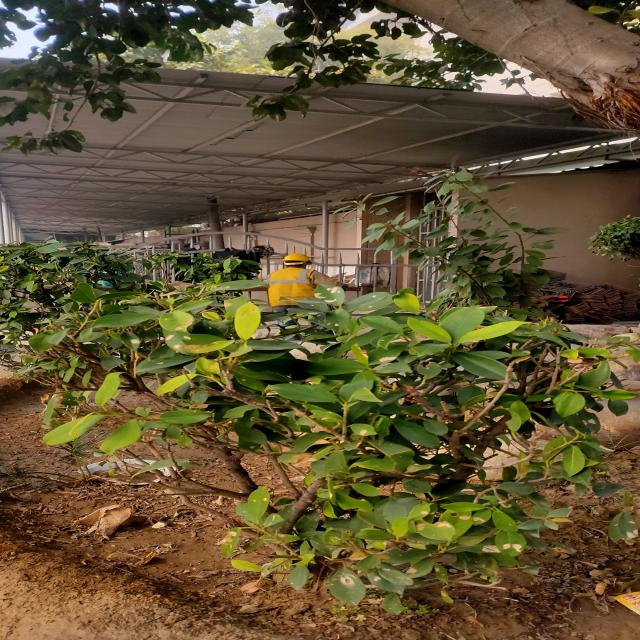safe: (264, 251, 329, 303)
